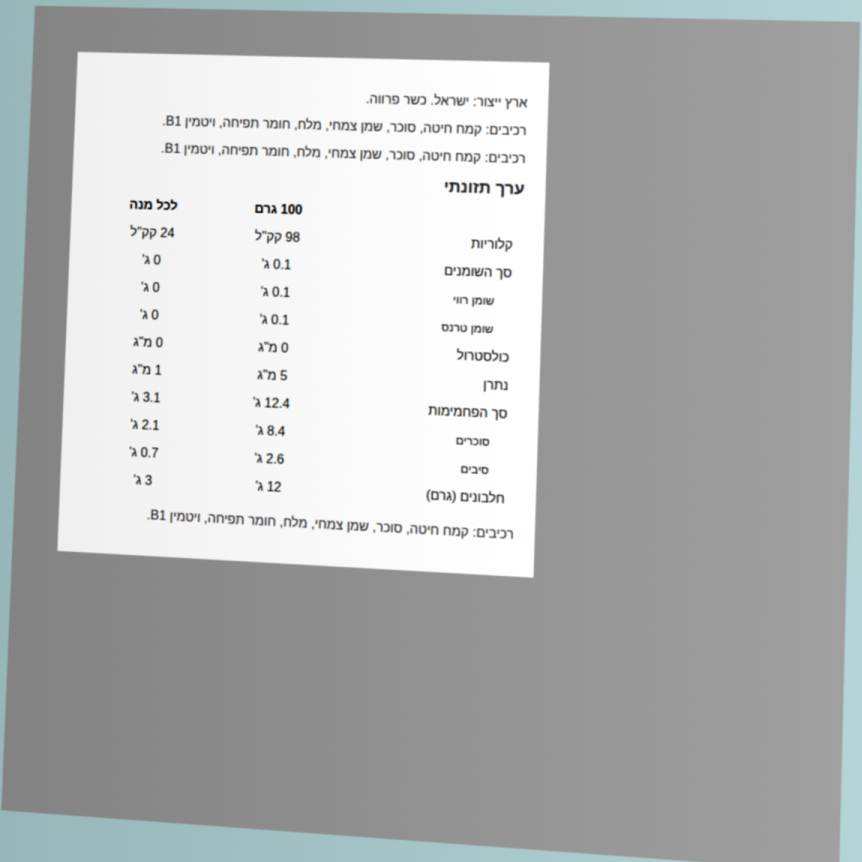carbs: (251, 393, 292, 413)
energy: (253, 227, 302, 246)
fat: (260, 255, 293, 274)
protein: (253, 477, 283, 496)
